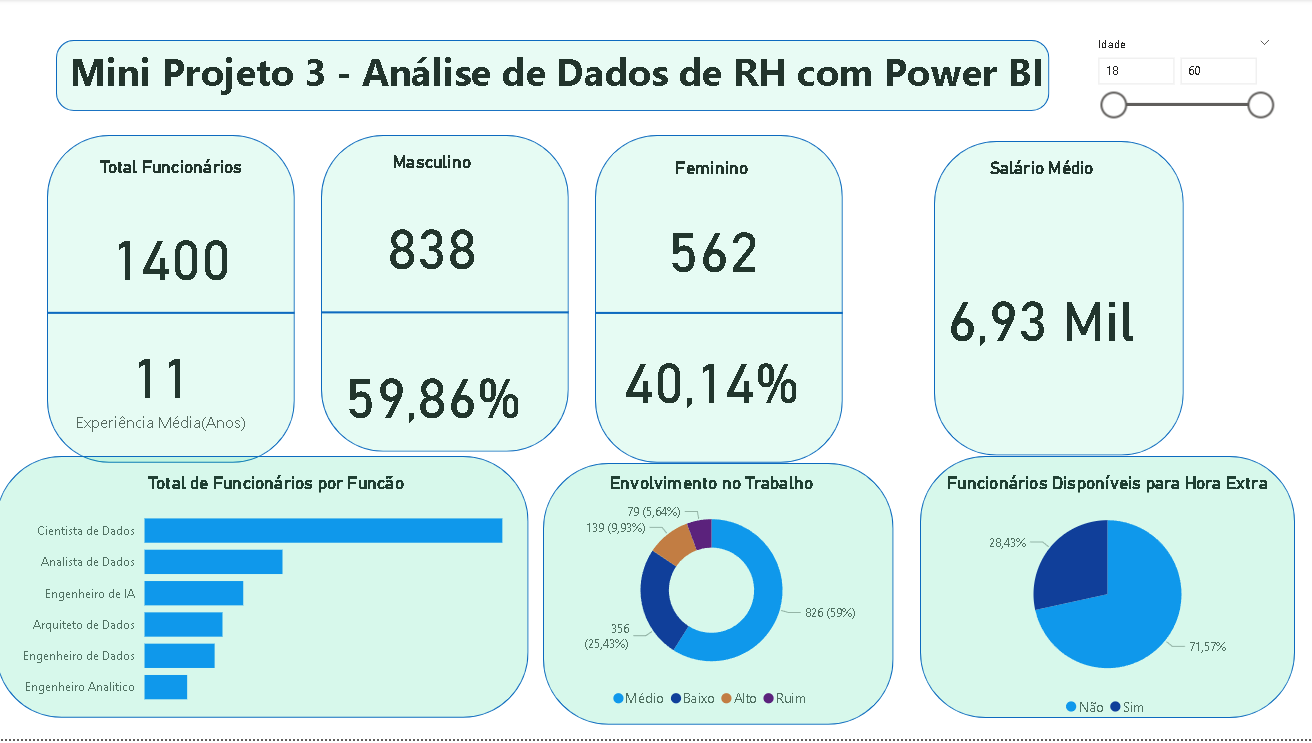

Layout of this report page (visuals, bound fields, positions):
{"tool":"powerbi","page":{"name":"Página 1","canvas":[1280,720],"ordinal":0},"visuals":[{"type":"card","title":"Total Funcionários","fields":{"Values":["Medidas (2).TotalFunc"]},"box":[49.6,153.7,241.2,168.3],"z":0},{"type":"card","fields":{"Values":["Avg(DatasetRH.Anos_Experiencia)"]},"box":[49.6,305.4,222.7,135.2],"z":1000},{"type":"card","title":"Masculino","fields":{"Values":["Medidas (2).TotalMasculino"]},"box":[316.1,148.8,215.9,156.6],"z":2000},{"type":"card","title":"Feminino","fields":{"Values":["Medidas (2).Totalfeminino"]},"box":[582.6,154.7,227.6,150.8],"z":3000},{"type":"card","fields":{"Values":["Medidas (2).% Masculino"]},"box":[327.8,321.9,192.6,118.7],"z":4000},{"type":"card","fields":{"Values":["Medidas (2).% Feminino"]},"box":[598.2,302.5,195.5,129.4],"z":5000},{"type":"card","title":"Salário Médio","fields":{"Values":["Medidas (2).SalarioMedio"]},"box":[845.2,154.7,343.3,286],"z":6000},{"type":"clusteredBarChart","title":"Total de Funcionários por Funcão","fields":{"Category":["DatasetRH.Funcao"],"Y":["Medidas (2).TotalFunc"]},"box":[12.6,461,519.4,238.3],"z":7000},{"type":"pieChart","title":"Funcionários Disponíveis para Hora Extra","fields":{"Category":["DatasetRH.Disponivel_Hora_Extra"],"Y":["Medidas (2).TotalFunc"]},"box":[898.7,461,364.7,246.1],"z":8000},{"type":"donutChart","title":" Envolvimento no Trabalho","fields":{"Category":["DatasetRH.Envolvimento_Trabalho"],"Y":["Medidas (2).TotalFunc"]},"box":[518.4,461,355,238.3],"z":9000},{"type":"slicer","fields":{"Values":["DatasetRH.Idade"]},"box":[1059.2,33.1,192.6,115.7],"z":10000},{"type":"shape","box":[49.6,132.3,241.2,319],"z":10001},{"type":"shape","box":[49.6,221.8,241.2,167.3],"z":10002},{"type":"shape","box":[316.1,132.3,241.2,308.3],"z":10003},{"type":"shape","box":[316.1,220.8,241.2,168.3],"z":10004},{"type":"shape","box":[582.6,132.3,241.2,319],"z":10005},{"type":"shape","box":[582.6,230.5,241.2,149.8],"z":10006},{"type":"shape","box":[912.3,138.1,243.2,306.4],"z":10007},{"type":"shape","box":[0,444.5,518.4,254.8],"z":10008},{"type":"shape","box":[532,451.3,341.4,254.8],"z":10009},{"type":"shape","box":[898.7,444.5,364.7,254.8],"z":10010},{"type":"textbox","box":[58.4,39.9,975.6,77.8],"z":10011},{"type":"shape","box":[58.4,39.9,966.8,69.1],"z":10012}]}

Visuals, with their boxes in screenshot pixels (x1, y1, x2, y2), scaled from the page's 1280x720 canvas onto the 1312x743 screenshot:
"Total Funcionários" card: left=51, top=159, right=298, bottom=332
card - Avg(DatasetRH.Anos_Experiencia): left=51, top=315, right=279, bottom=455
"Masculino" card: left=324, top=154, right=545, bottom=315
"Feminino" card: left=597, top=160, right=830, bottom=315
card - Medidas (2).% Masculino: left=336, top=332, right=533, bottom=455
card - Medidas (2).% Feminino: left=613, top=312, right=814, bottom=446
"Salário Médio" card: left=866, top=160, right=1218, bottom=455
"Total de Funcionários por Funcão" clusteredBarChart: left=13, top=476, right=545, bottom=722
"Funcionários Disponíveis para Hora Extra" pieChart: left=921, top=476, right=1295, bottom=730
" Envolvimento no Trabalho" donutChart: left=531, top=476, right=895, bottom=722
slicer - DatasetRH.Idade: left=1086, top=34, right=1283, bottom=154
shape: left=51, top=137, right=298, bottom=466
shape: left=51, top=229, right=298, bottom=402
shape: left=324, top=137, right=571, bottom=455
shape: left=324, top=228, right=571, bottom=402
shape: left=597, top=137, right=844, bottom=466
shape: left=597, top=238, right=844, bottom=392
shape: left=935, top=143, right=1184, bottom=459
shape: left=0, top=459, right=531, bottom=722
shape: left=545, top=466, right=895, bottom=729
shape: left=921, top=459, right=1295, bottom=722
textbox: left=60, top=41, right=1060, bottom=121
shape: left=60, top=41, right=1051, bottom=112
